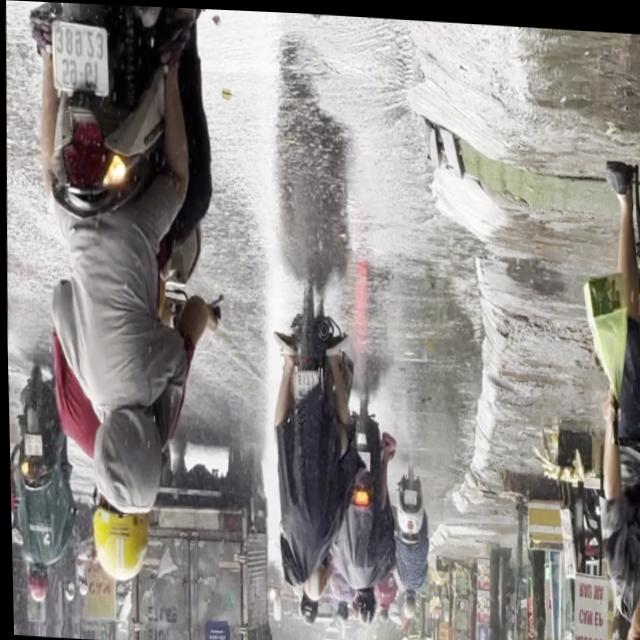helmet: (87, 401, 163, 515), (86, 490, 148, 583), (295, 548, 326, 601), (22, 566, 45, 603), (352, 585, 373, 624)
licenseplate: (11, 0, 231, 603), (259, 267, 362, 602), (323, 377, 397, 630), (6, 365, 74, 607)
nohelmet: (52, 21, 108, 93), (22, 435, 39, 456)
